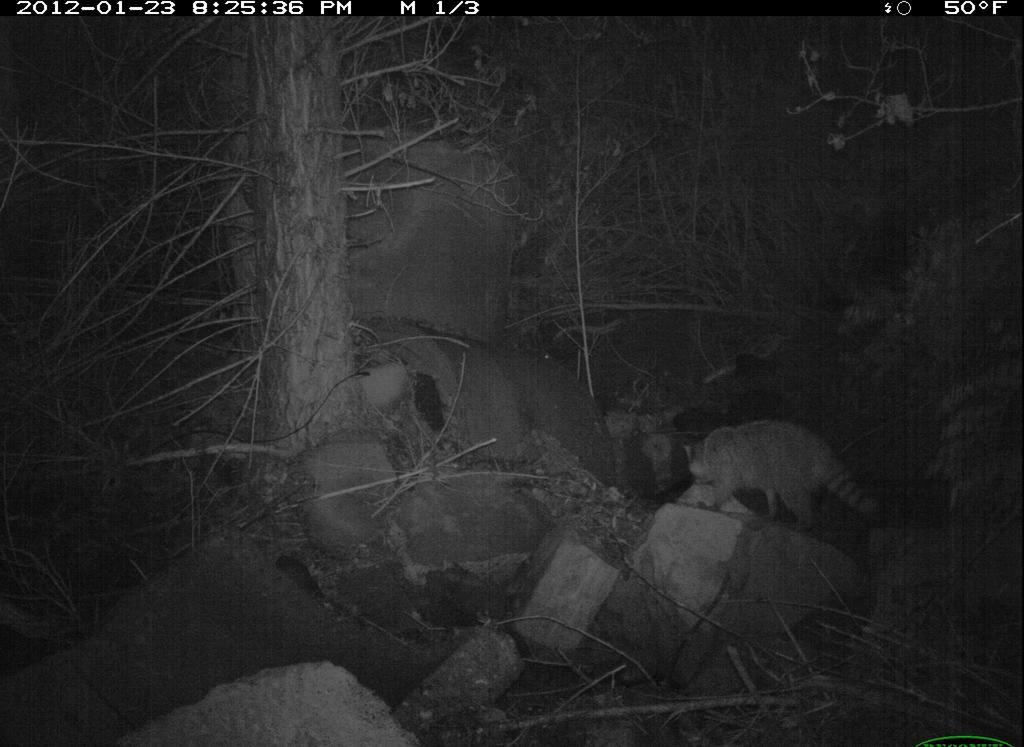raccoon: (679, 417, 890, 537)
